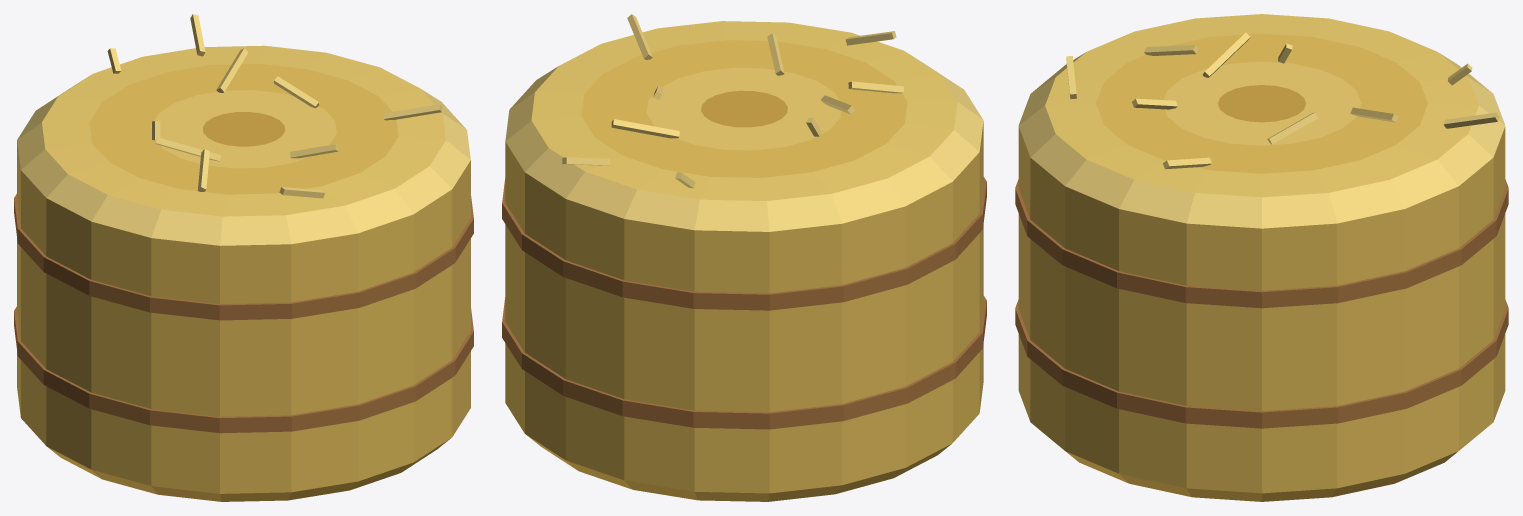
The model's file is hay-bale.glb.
3 views of the same model, side by side, from view 1: azimuth 30°, elevation 25°; view 2: azimuth 150°, elevation 25°; view 3: azimuth 270°, elevation 25° (orthographic). The views are drawn at different scales.
Visible parts, largest first — view 1: hay-bale; view 2: hay-bale; view 3: hay-bale.
Part boxes in pixels (x1,y1,x2,y2): hay-bale: (14,14,473,501); hay-bale: (502,14,986,501); hay-bale: (1015,14,1508,501).
Bounding box in the file's own units: 2.23 × 1.62 × 2.23.
